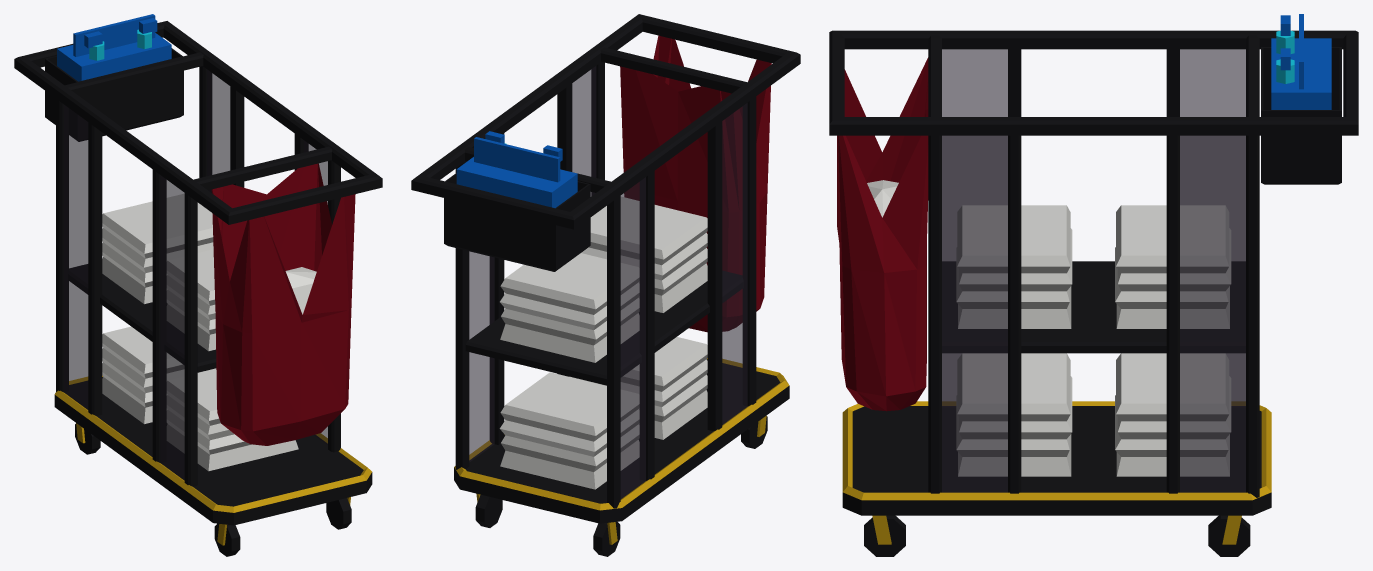
Rendered from housekeeping-cart-4df085.glb.
3 renders of one model, left to right at view 1: azimuth 30°, elevation 25°; view 2: azimuth 150°, elevation 25°; view 3: azimuth 270°, elevation 25°, orthographic. The views are drawn at different scales.
Visible parts, largest first — view 1: cart-body, laundry-bag-mesh, side-panes, caddy-mesh, tyre-fl, tyre-fr; view 2: cart-body, side-panes, laundry-bag-mesh, caddy-mesh, tyre-rl, tyre-rr; view 3: cart-body, side-panes, laundry-bag-mesh, caddy-mesh, tyre-rl, tyre-fl.
Boxes of the visible parts, x1,y1,x2,y2 form: cart-body: (14, 21, 382, 525); laundry-bag-mesh: (211, 163, 355, 445); side-panes: (64, 70, 327, 480); caddy-mesh: (57, 14, 171, 81); tyre-fl: (326, 498, 351, 529); tyre-fr: (214, 523, 240, 556); cart-body: (411, 14, 800, 523); side-panes: (469, 66, 747, 498); laundry-bag-mesh: (620, 35, 771, 332); caddy-mesh: (456, 131, 577, 208); tyre-rl: (475, 494, 502, 527); tyre-rr: (593, 521, 620, 556); cart-body: (829, 30, 1358, 515); side-panes: (942, 49, 1245, 492); laundry-bag-mesh: (837, 57, 928, 411); caddy-mesh: (1271, 14, 1331, 109); tyre-rl: (1208, 515, 1250, 556); tyre-fl: (864, 515, 905, 556).
Size of the model in its own units: 0.6 by 1.41 by 1.4.
